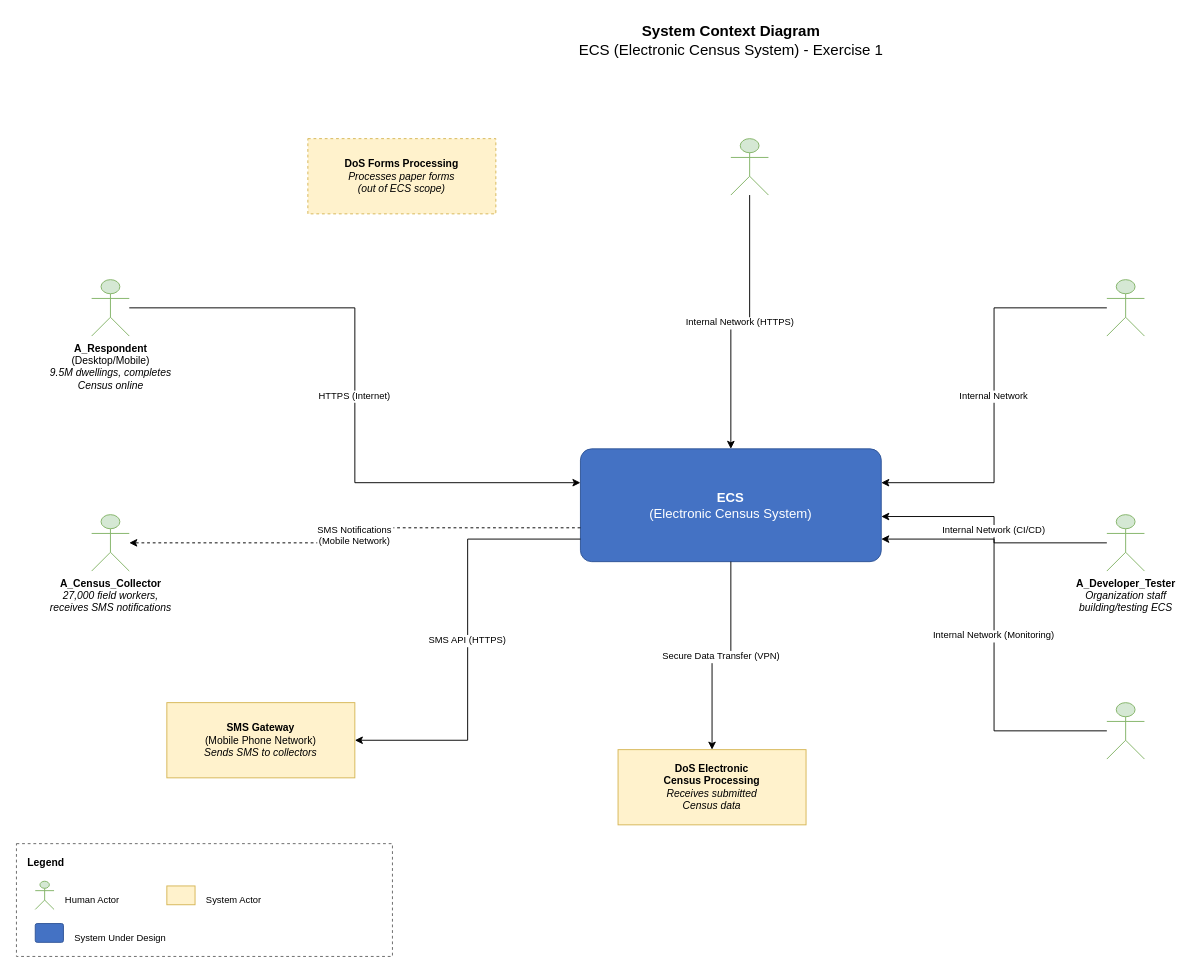
Image size: 1199x973. Some labels were removed from this diagram. The box of each missing label's shape, as (x1, y1, x2, y2) in pixels:
A_DoS_Administrator Department of Statistics staff managing Census operations: (730, 138, 768, 195)
A_Help_Desk_Operator DoS staff supporting respondents: (1106, 279, 1144, 336)
A_Support_Staff Organization staff monitoring/supporting ECS hosting: (1106, 702, 1144, 759)
